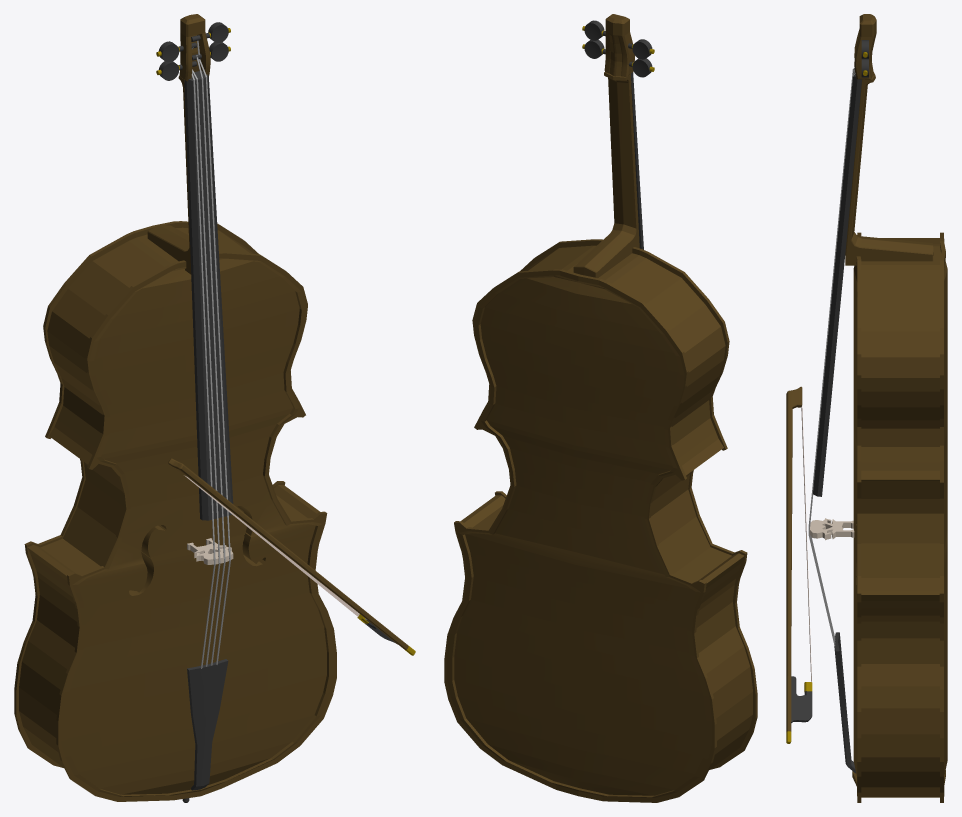
File: IN_Cello.fbx
The picture shows the model from 3 angles, left to right: view 1: azimuth 30°, elevation 25°; view 2: azimuth 150°, elevation 25°; view 3: azimuth 270°, elevation 25°; orthographic projection. The views are drawn at different scales.
Parts seen in each view (by area): view 1: pCube30, pCube29; view 2: pCube30; view 3: pCube30, pCube29.
Boxes of the visible parts, <box> form: pCube30: <box>14,14,336,802</box>; pCube29: <box>168,458,415,655</box>; pCube30: <box>444,14,757,802</box>; pCube30: <box>808,14,947,802</box>; pCube29: <box>786,386,812,743</box>.
Bounding box in the file's own units: 20.27 × 47.53 × 8.96.
